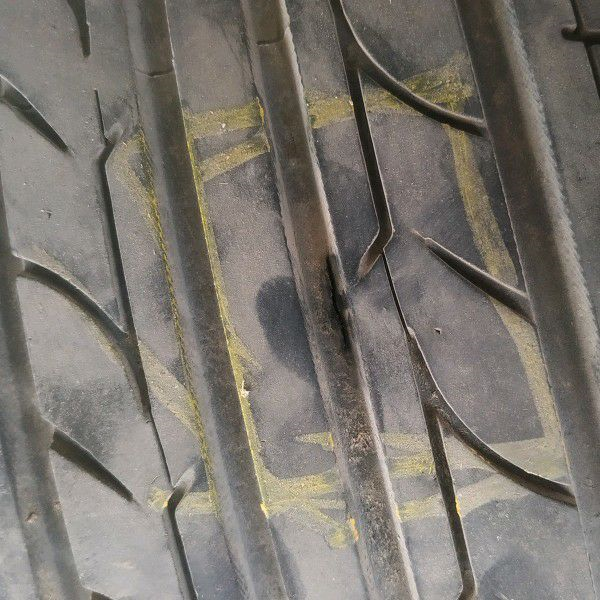tr: (322, 250, 361, 368)
